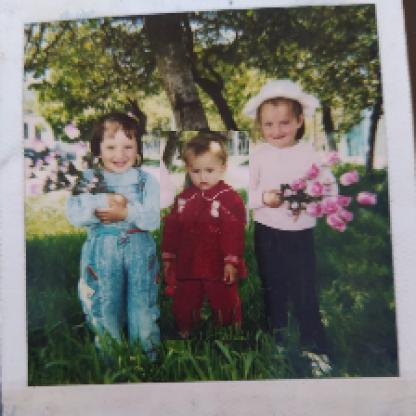child: (237, 80, 341, 377), (67, 112, 162, 359), (161, 132, 251, 342)
